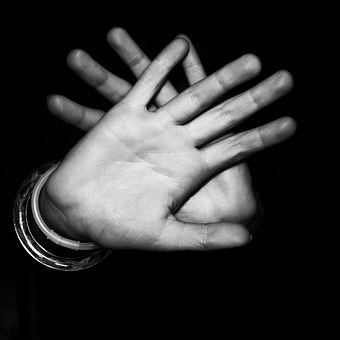palm: (65, 109, 204, 249)
